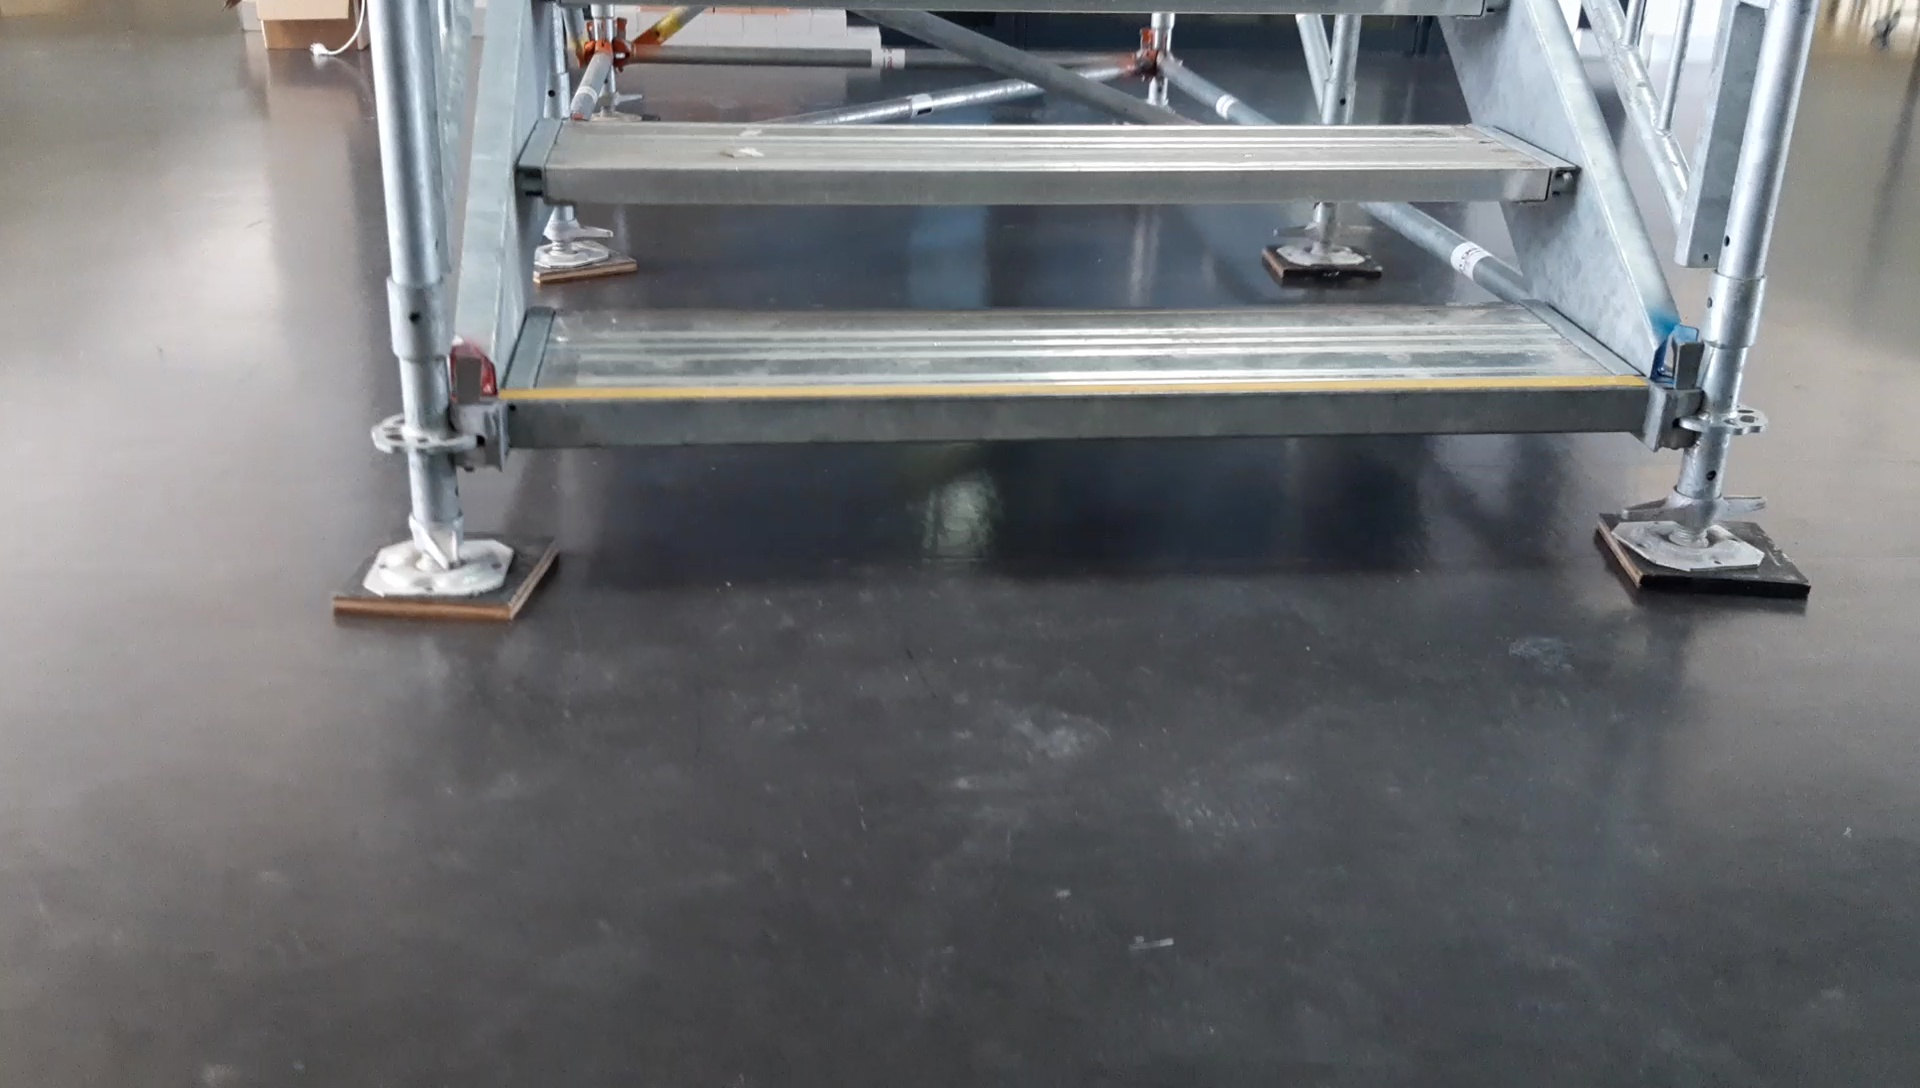brick: (849, 26, 882, 47), (812, 30, 847, 47), (812, 9, 840, 30), (708, 17, 738, 34), (740, 30, 771, 45), (778, 30, 806, 45)
edge: (506, 380, 1648, 444), (514, 164, 1578, 200)
stairs: (327, 3, 1811, 622)
